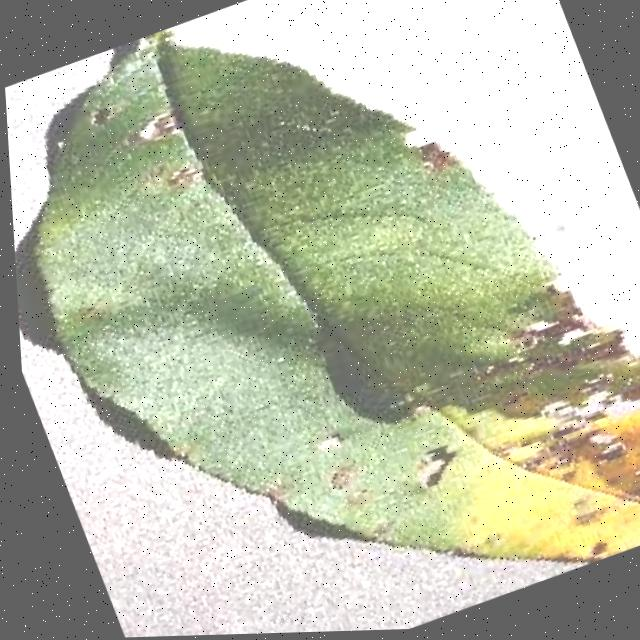Bacterial_spot: (508, 369, 640, 574), (111, 84, 234, 222), (387, 113, 477, 202), (305, 437, 387, 514)
